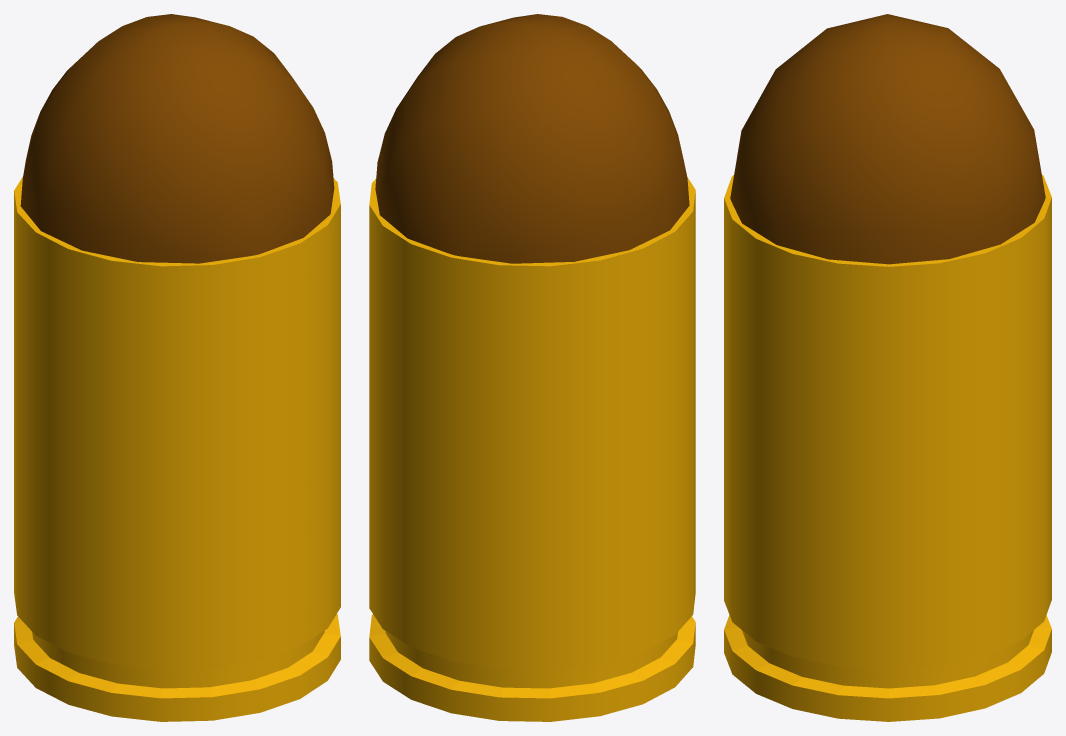
File: shot.FBX
3 renders of one model, left to right at view 1: azimuth 30°, elevation 25°; view 2: azimuth 150°, elevation 25°; view 3: azimuth 270°, elevation 25°, orthographic.
Parts seen in each view (by area): view 1: Гилбза, Пуля; view 2: Гилбза, Пуля; view 3: Гилбза, Пуля.
Part boxes in pixels (<box>): Гилбза: <box>14,176,340,721</box>; Пуля: <box>20,14,334,263</box>; Гилбза: <box>369,177,695,721</box>; Пуля: <box>375,14,689,263</box>; Гилбза: <box>724,175,1051,721</box>; Пуля: <box>730,14,1045,264</box>.
Size of the model in its own units: 3.54 by 7.46 by 3.54.
